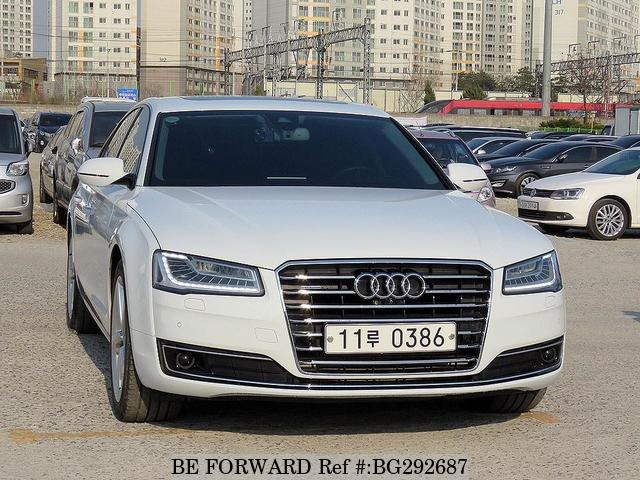audi: (349, 271, 429, 306)
